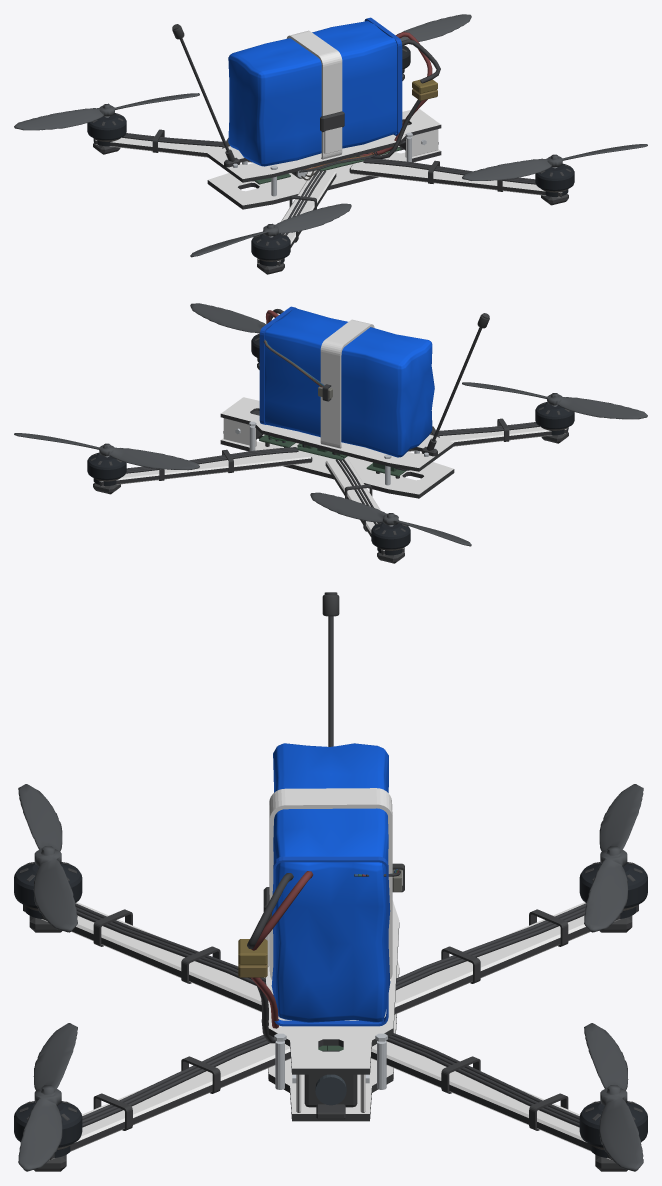
File: Assembled_LOD0.glb
3 renders of one model, top to bottom at view 1: azimuth 30°, elevation 25°; view 2: azimuth 150°, elevation 25°; view 3: azimuth 270°, elevation 25°, orthographic. The views are drawn at different scales.
Parts seen in each view (by area): view 1: Antenna_BracketBolt.002; view 2: Antenna_BracketBolt.002; view 3: Antenna_BracketBolt.002.
Boxes of the visible parts, <box> form: Antenna_BracketBolt.002: <box>14,14,647,274</box>; Antenna_BracketBolt.002: <box>14,303,647,563</box>; Antenna_BracketBolt.002: <box>14,592,647,1171</box>.
Size of the model in its own units: 0.4662 by 0.1837 by 0.325.
